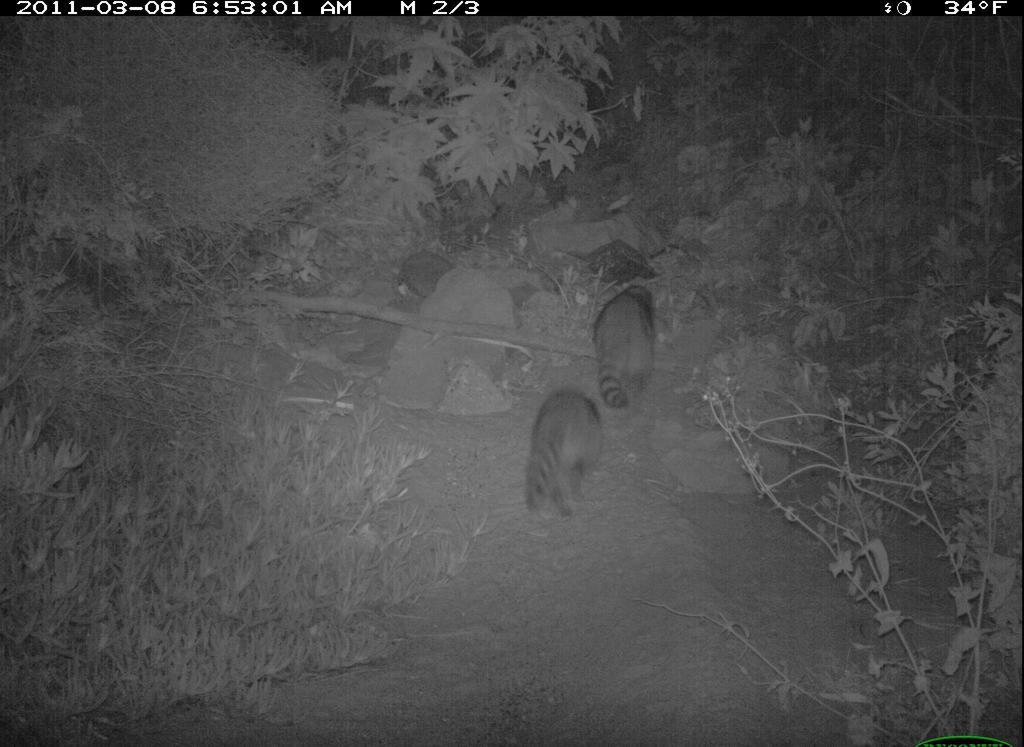raccoon: (521, 387, 609, 525), (592, 274, 669, 413)
